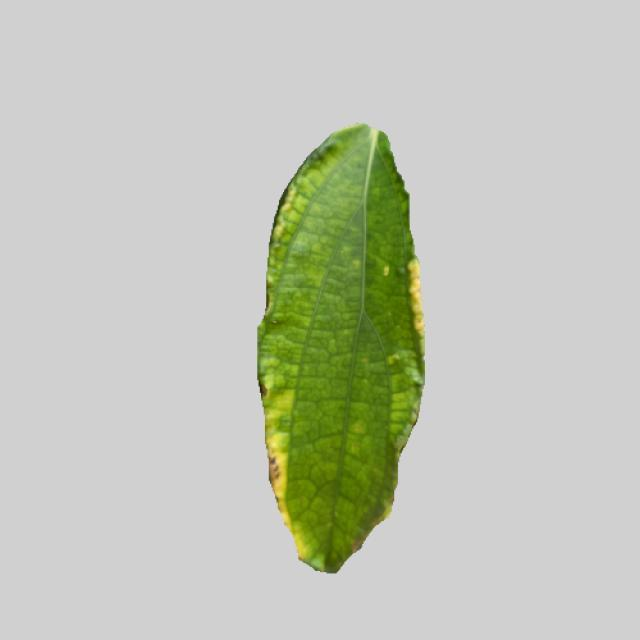yellow-mottle-virus: (256, 125, 428, 576)
